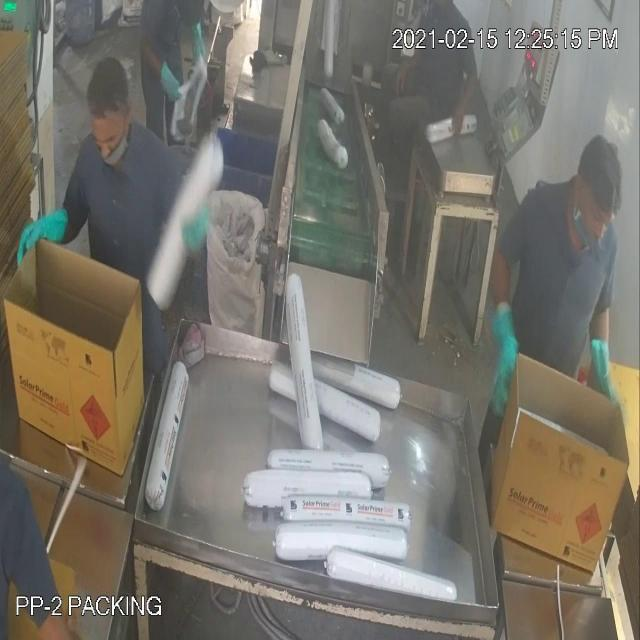Gloves: (40, 60, 503, 354)
